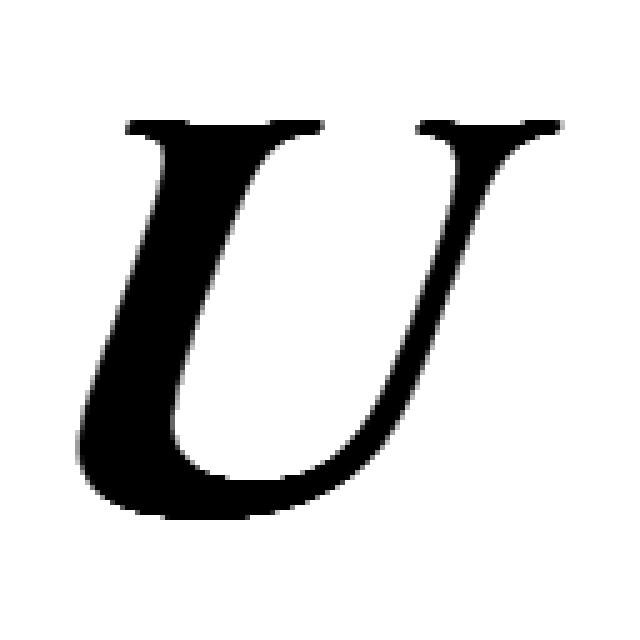U: (70, 105, 565, 525)
